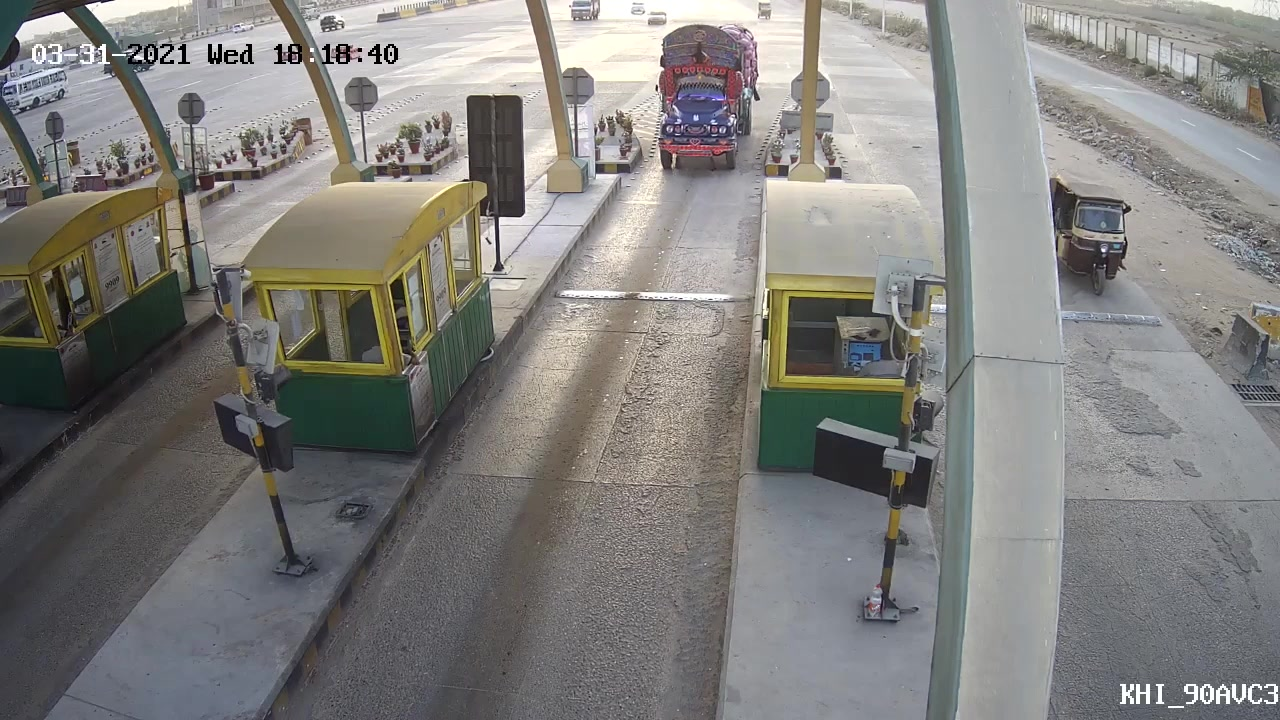F5: (638, 6, 771, 181)
